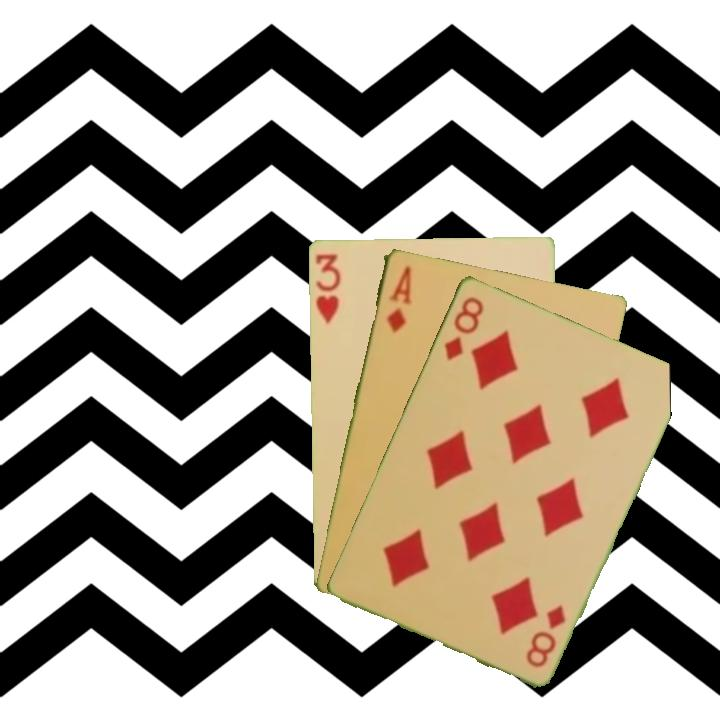3h: (311, 250, 343, 326)
8d: (440, 292, 487, 363), (522, 600, 569, 670)
Ad: (383, 262, 414, 335)
